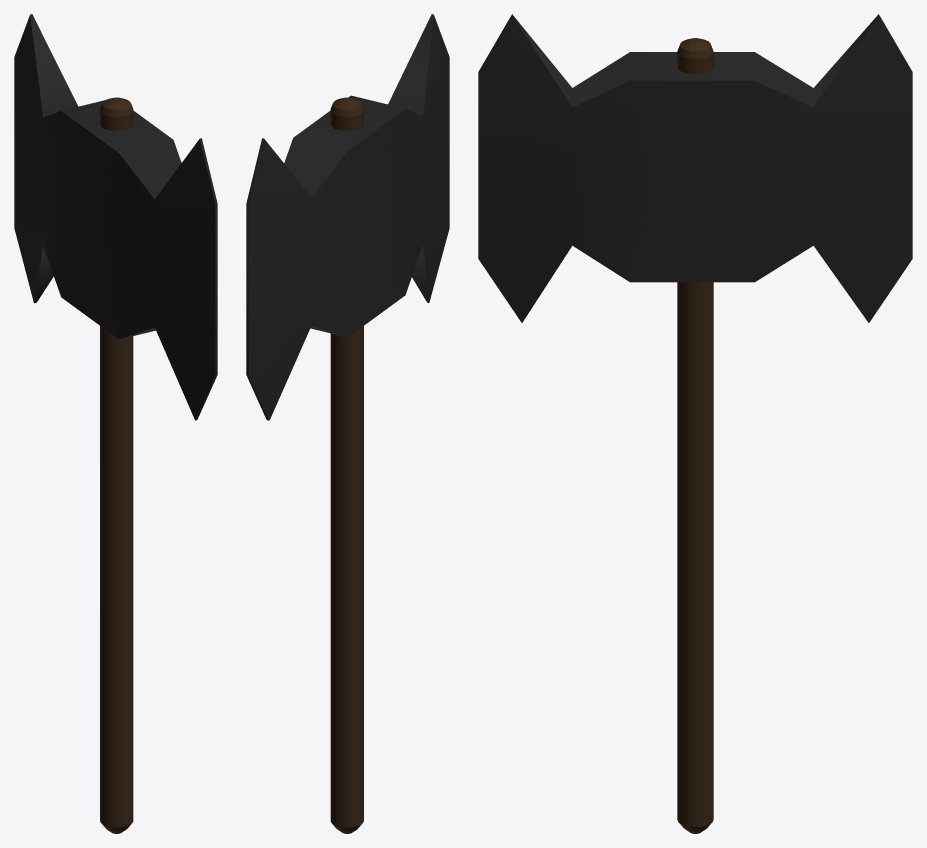
The model's file is Berzerker_Axe_Projectile.fbx.
3 views of the same model, side by side, from view 1: azimuth 30°, elevation 25°; view 2: azimuth 150°, elevation 25°; view 3: azimuth 270°, elevation 25° (orthographic). The views are drawn at different scales.
Visible parts, largest first — view 1: pCube4, pCylinder1; view 2: pCube4, pCylinder1; view 3: pCube4, pCylinder1.
Part boxes in pixels (x1,y1,x2,y2): pCube4: (14,14,217,420); pCylinder1: (100,97,133,833); pCube4: (246,14,449,420); pCylinder1: (330,97,363,833); pCube4: (478,14,912,322); pCylinder1: (677,38,713,833).
Size of the model in its own units: 0.4683 by 6.19 by 2.99.
2 materials, 2 textured.
